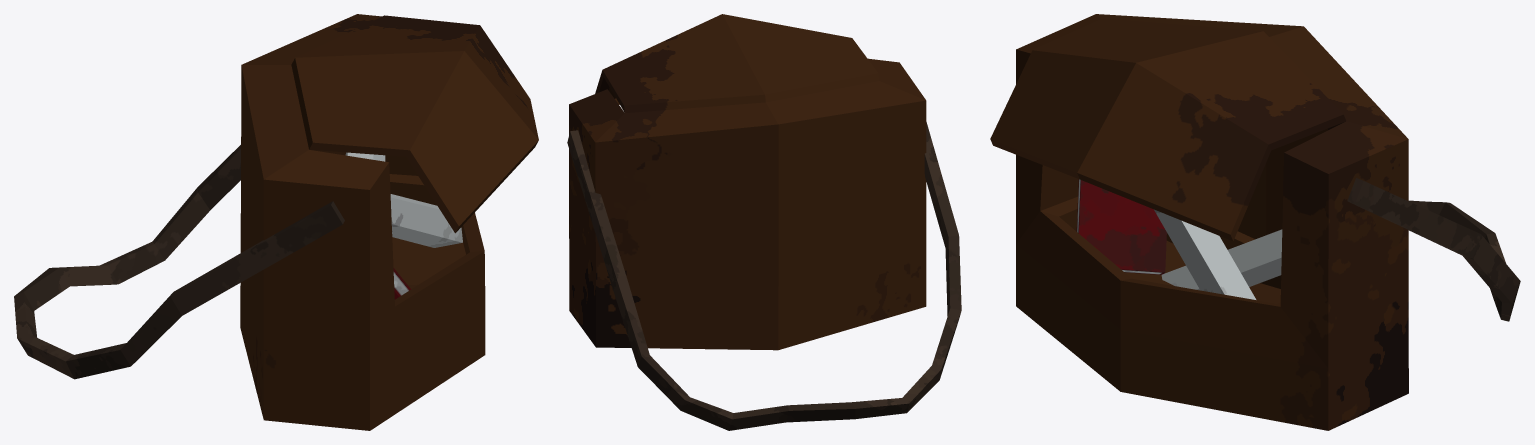
File: Las #2 Torba.glb
3 views of the same model, side by side, from view 1: azimuth 30°, elevation 25°; view 2: azimuth 150°, elevation 25°; view 3: azimuth 270°, elevation 25° (orthographic). The views are drawn at different scales.
Parts seen in each view (by area): view 1: Cube.017; view 2: Cube.017; view 3: Cube.017.
Boxes of the visible parts, box(x1,y1,x2,y2) form: Cube.017: box(14, 14, 538, 430); Cube.017: box(567, 14, 961, 430); Cube.017: box(990, 14, 1520, 430).
Bounding box in the file's own units: 3.45 × 2.35 × 3.36.
Materials: 1 (1 with a texture image).
